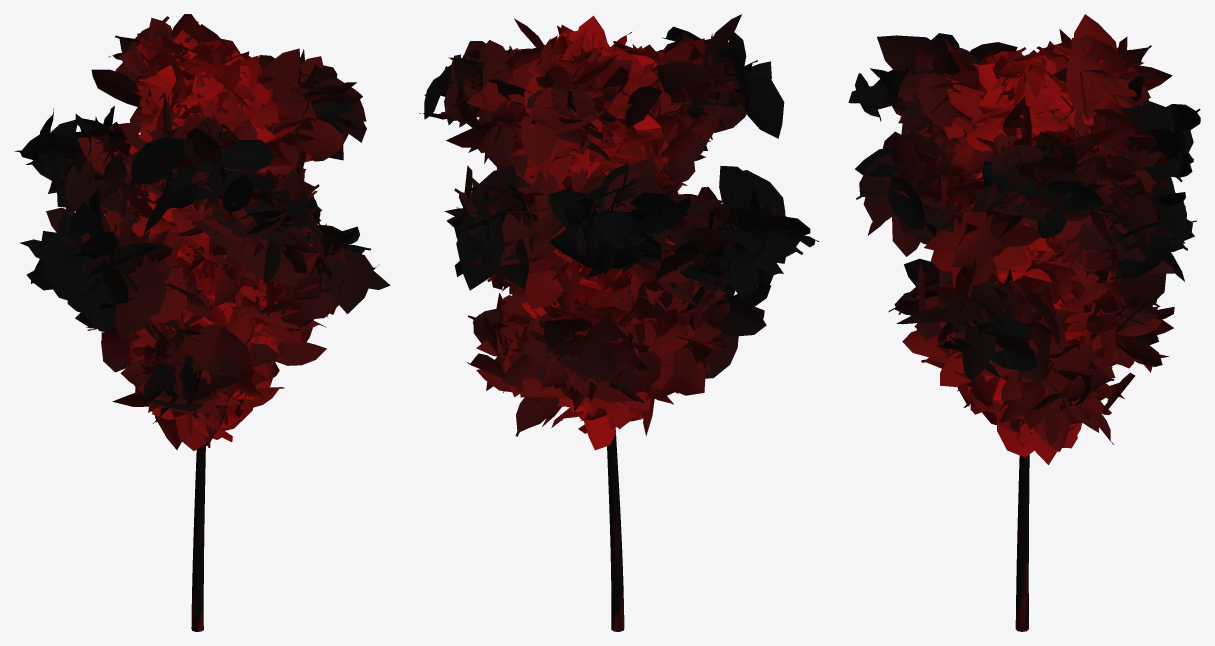
File: SM_SaplingBroadleaf_00.fbx
3 renders of one model, left to right at view 1: azimuth 30°, elevation 25°; view 2: azimuth 150°, elevation 25°; view 3: azimuth 270°, elevation 25°, orthographic. The views are drawn at different scales.
Visible parts, largest first — view 1: SM_SaplingBroadleaf_00; view 2: SM_SaplingBroadleaf_00; view 3: SM_SaplingBroadleaf_00.
Boxes of the visible parts, bbox=[...] form: SM_SaplingBroadleaf_00: bbox=[14, 14, 390, 631]; SM_SaplingBroadleaf_00: bbox=[419, 14, 818, 631]; SM_SaplingBroadleaf_00: bbox=[848, 14, 1200, 631].
Size of what is drawn, in the model's own units: 172 by 146 by 276.
